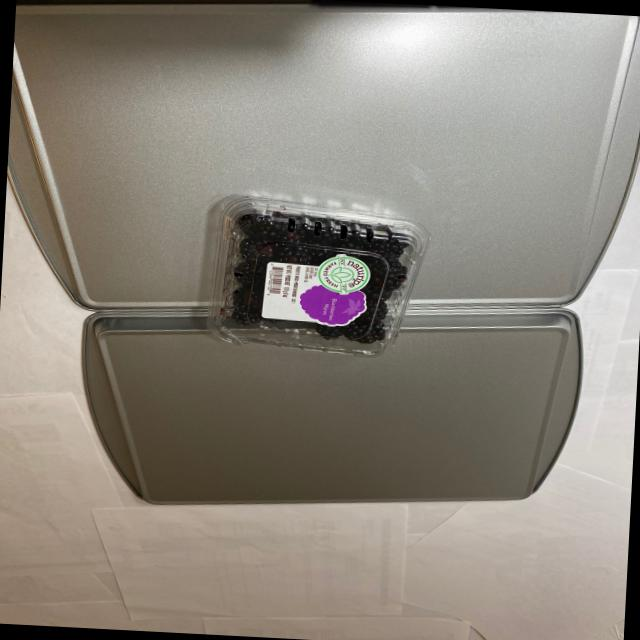blackberries: (208, 192, 422, 364)
